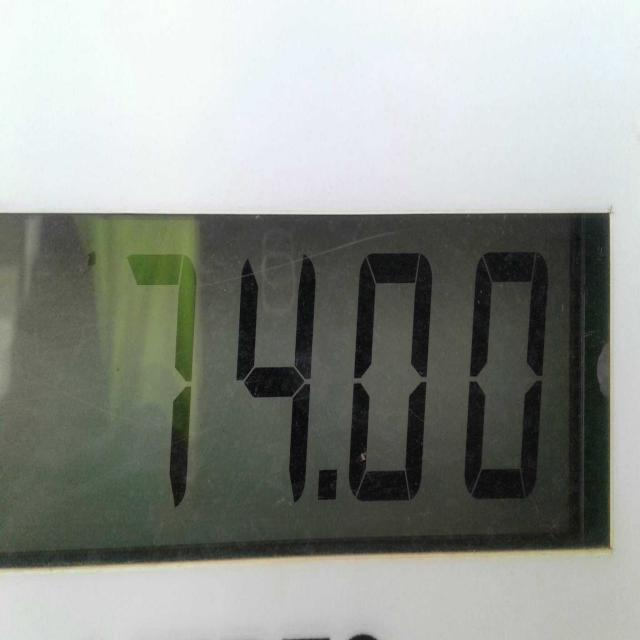.: (316, 470, 339, 505)
0: (352, 256, 432, 509), (467, 252, 543, 498)
4: (235, 253, 315, 504)
7: (124, 253, 202, 507)
